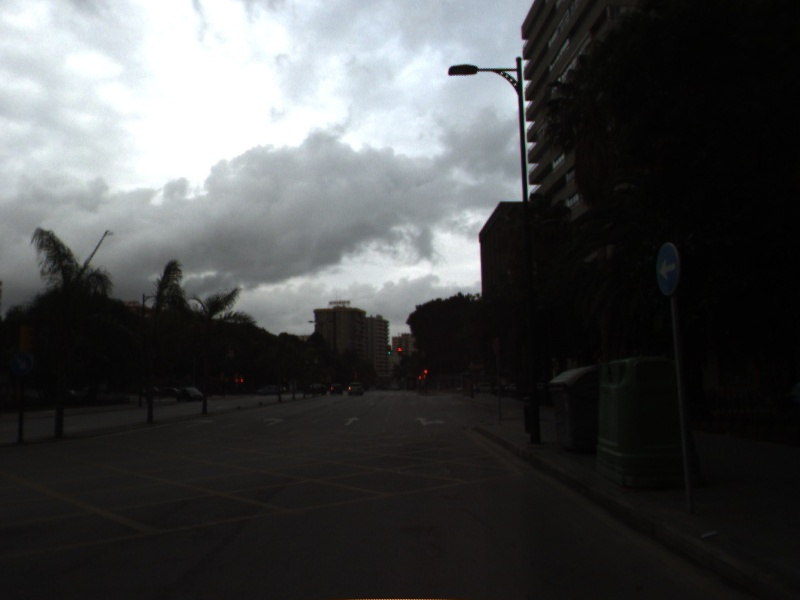LEFT: (184, 417, 217, 430), (262, 415, 286, 428)
STRAIGHT: (342, 414, 362, 427)
STRAIGHT_RIGHT: (412, 414, 449, 427)
